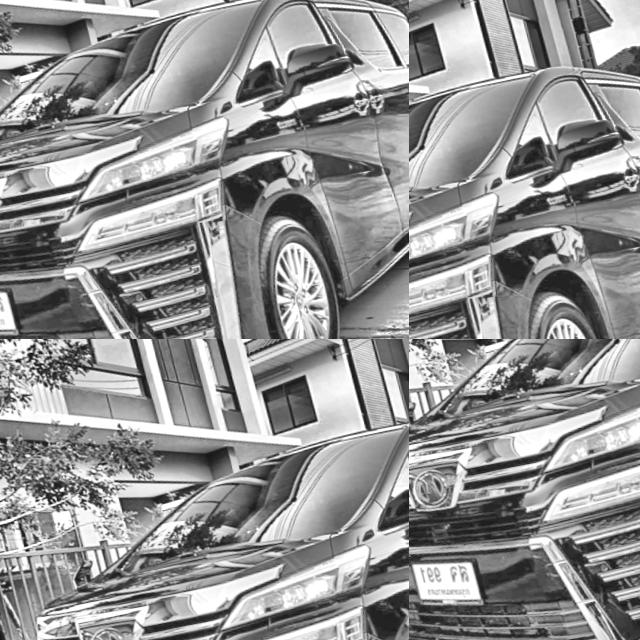license-plate: (409, 72, 469, 169), (409, 545, 474, 613)
